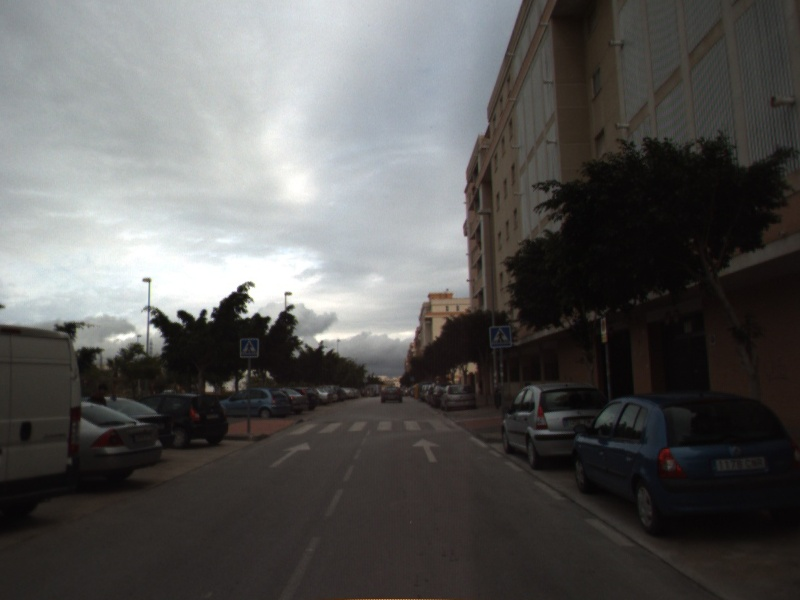STRAIGHT: (268, 440, 313, 469), (410, 436, 442, 464)
